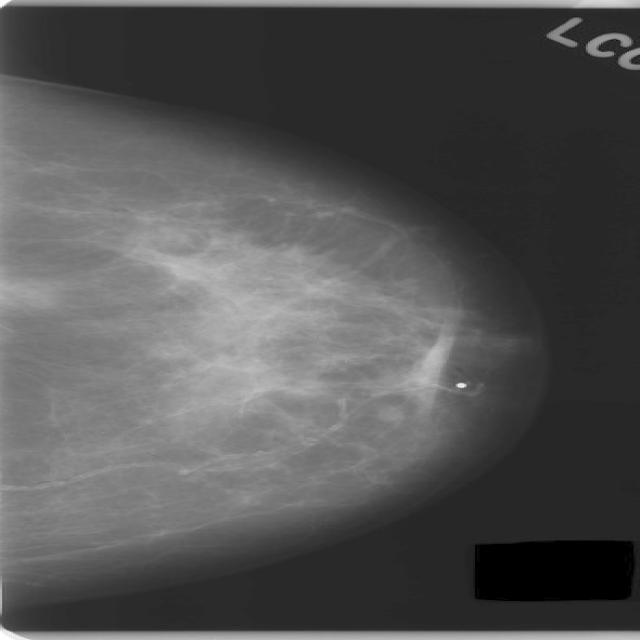tumour: (0, 278, 54, 311)
